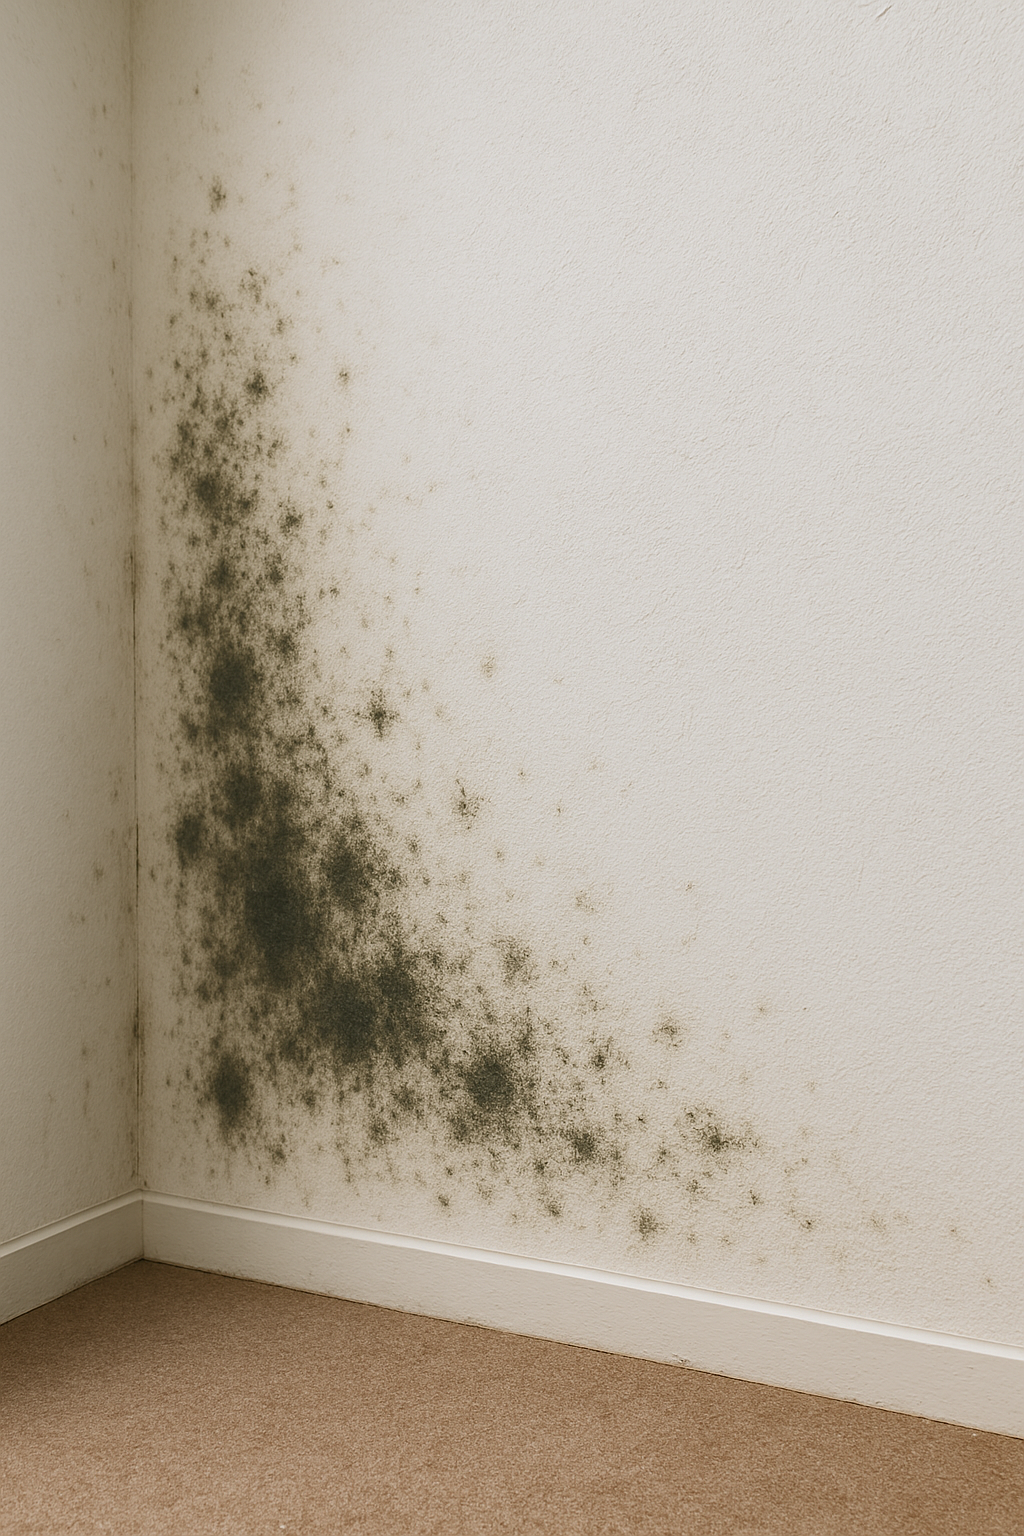schimmel: (171, 419, 309, 990), (313, 805, 418, 1107), (186, 1019, 277, 1146), (465, 1001, 521, 1149), (562, 1115, 627, 1181)
